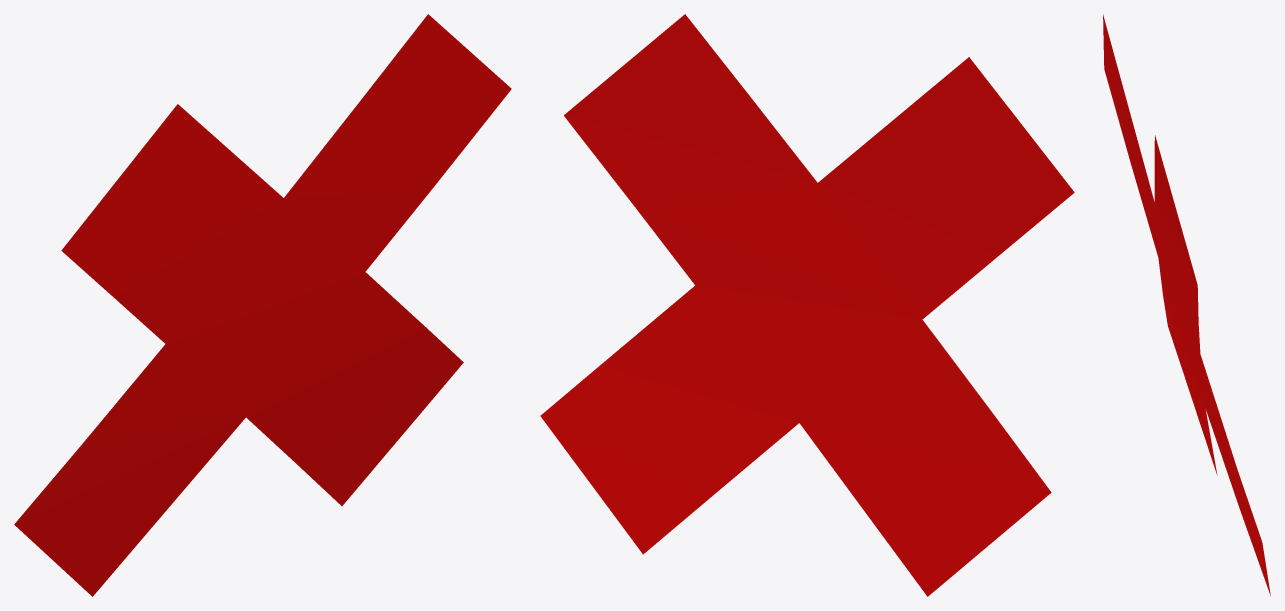
File: link6.dae_3.glb
3 views of the same model, side by side, from view 1: azimuth 30°, elevation 25°; view 2: azimuth 150°, elevation 25°; view 3: azimuth 270°, elevation 25° (orthographic). The views are drawn at different scales.
Parts seen in each view (by area): view 1: world; view 2: world; view 3: world.
Part boxes in pixels (left/top/right/bottom): world: left=14, top=14, right=511, bottom=596; world: left=540, top=14, right=1074, bottom=596; world: left=1103, top=14, right=1270, bottom=596.
Bounding box in the file's own units: 0.0032 × 0.00318 × 0.00103.
